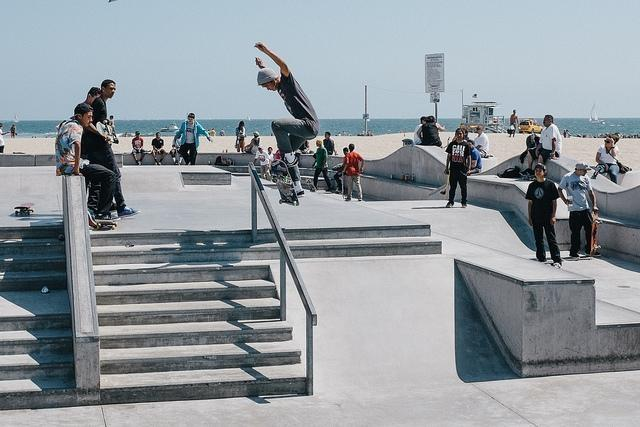car: (518, 119, 544, 134)
